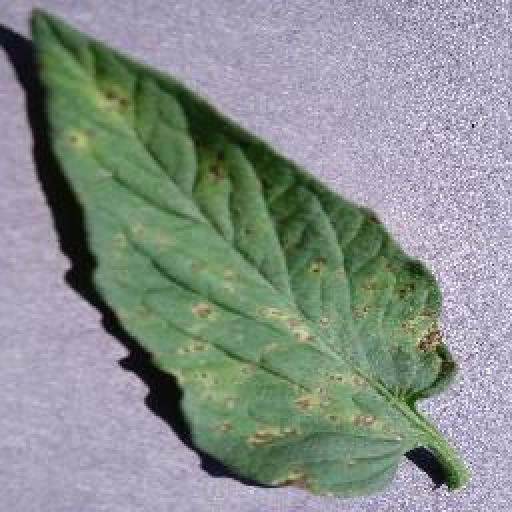Septoria: (33, 9, 456, 499)
